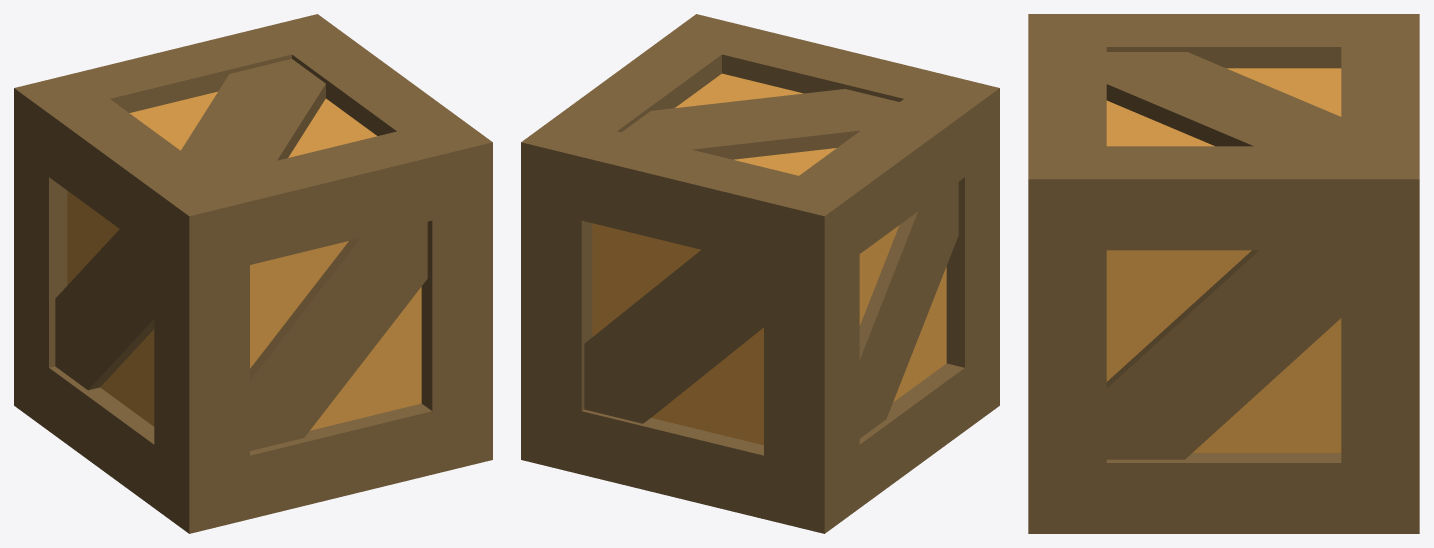
The model's file is Kiste_small.fbx.
3 renders of one model, left to right at view 1: azimuth 30°, elevation 25°; view 2: azimuth 150°, elevation 25°; view 3: azimuth 270°, elevation 25°, orthographic. The views are drawn at different scales.
Parts seen in each view (by area): view 1: Kiste_small; view 2: Kiste_small; view 3: Kiste_small.
Part boxes in pixels (x1,y1,x2,y2): Kiste_small: (14, 14, 492, 533); Kiste_small: (521, 14, 999, 533); Kiste_small: (1028, 14, 1419, 533).
Size of the model in its own units: 50 by 50 by 50.
